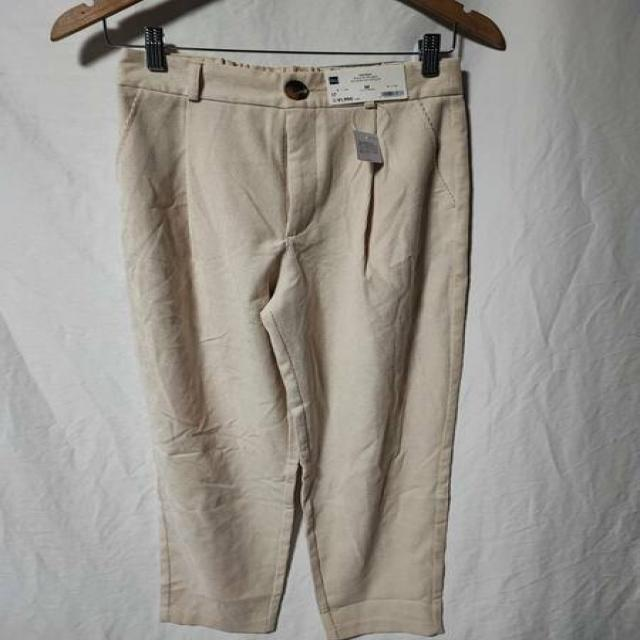long-pants: (118, 46, 470, 640)
